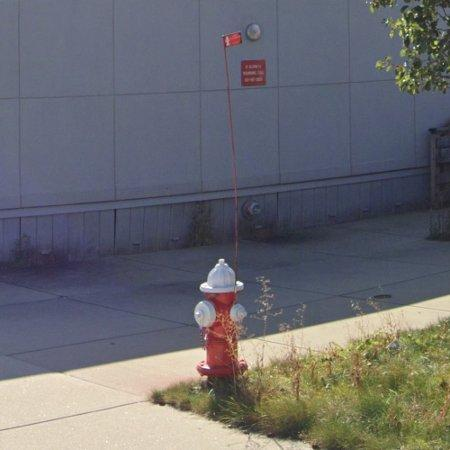a fire hydrant: (194, 301, 217, 328)
